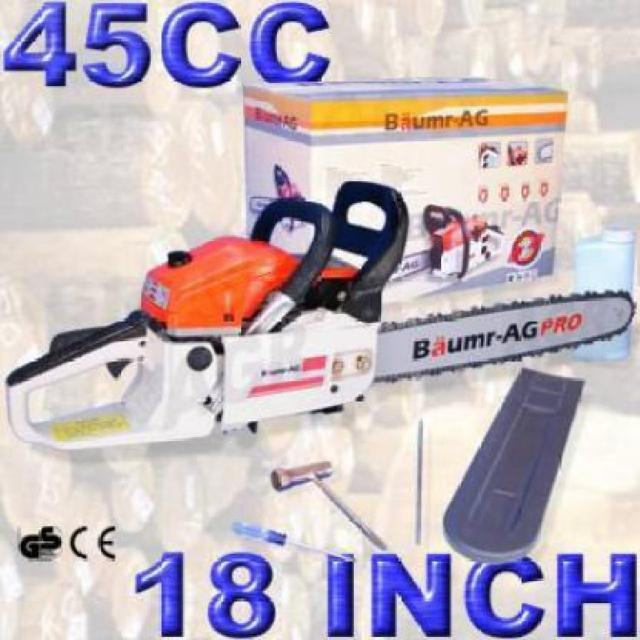Chainsaw: (0, 180, 640, 454)
